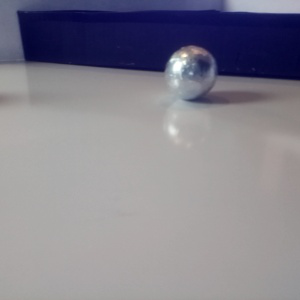zone: (16, 10, 298, 81)
